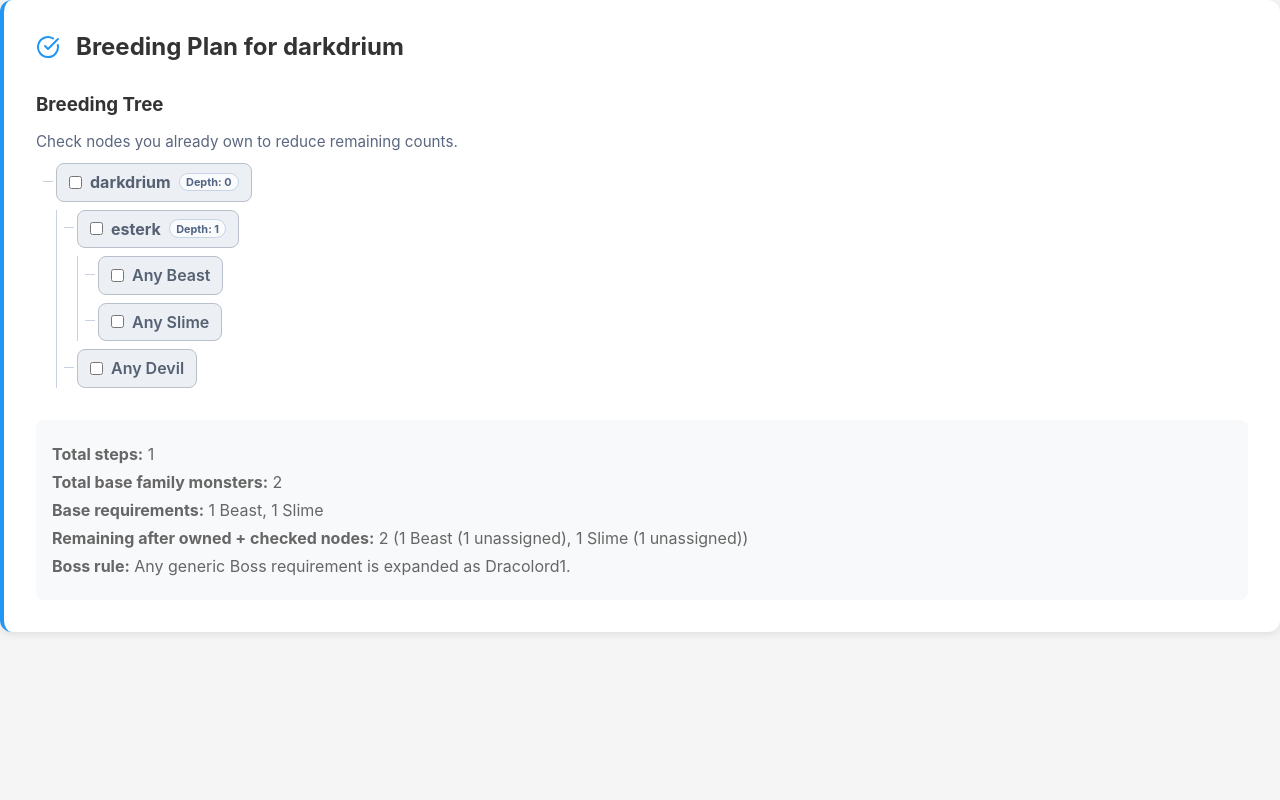
Scenario: BreedingPlan tree interactions › checks and collapses descendants when a parent node is checked
The width and height of the screenshot is (1280, 800).
Expected: the text "Any Beast" is shown, [132,265,210,285]
Click the checkbox next to "esterk". click: (96,228)
box: [90,222,103,235]
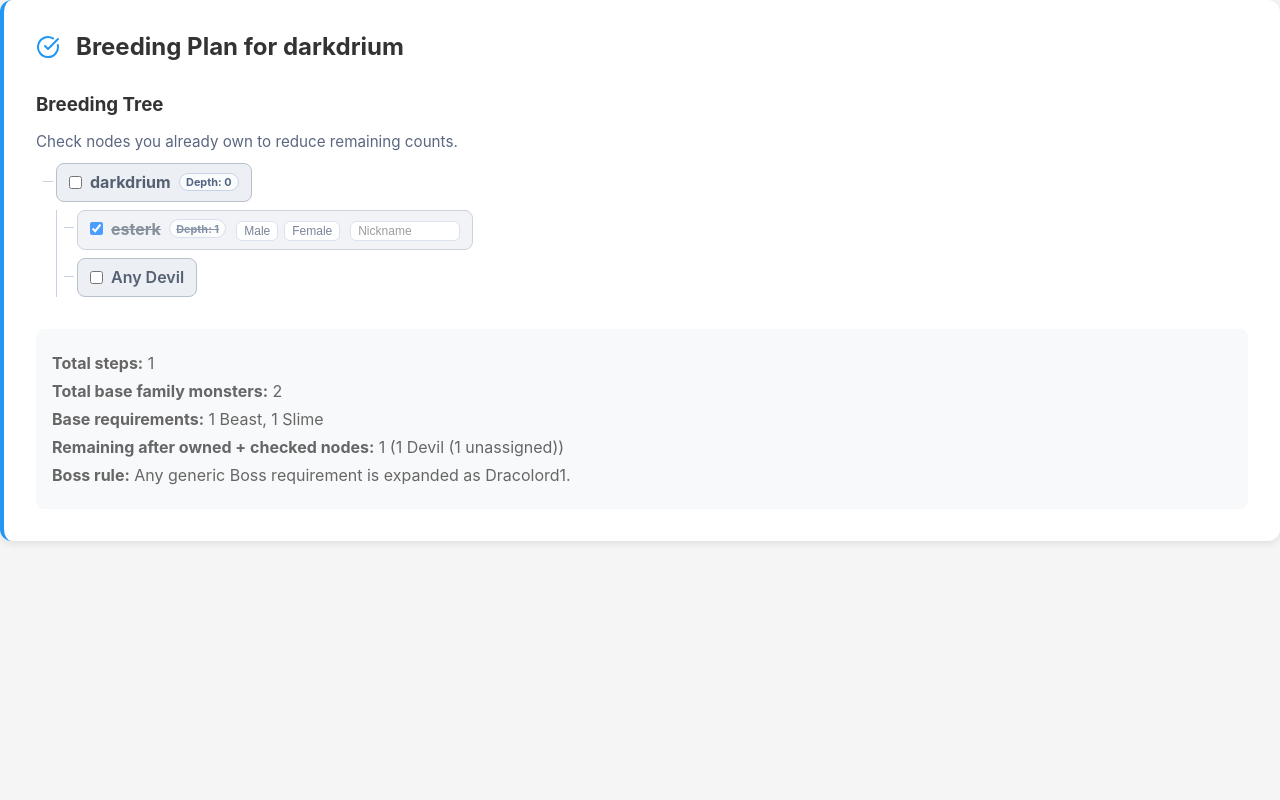
Result: the text "Any Beast" is gone
Result: the text "Any Slime" is gone
